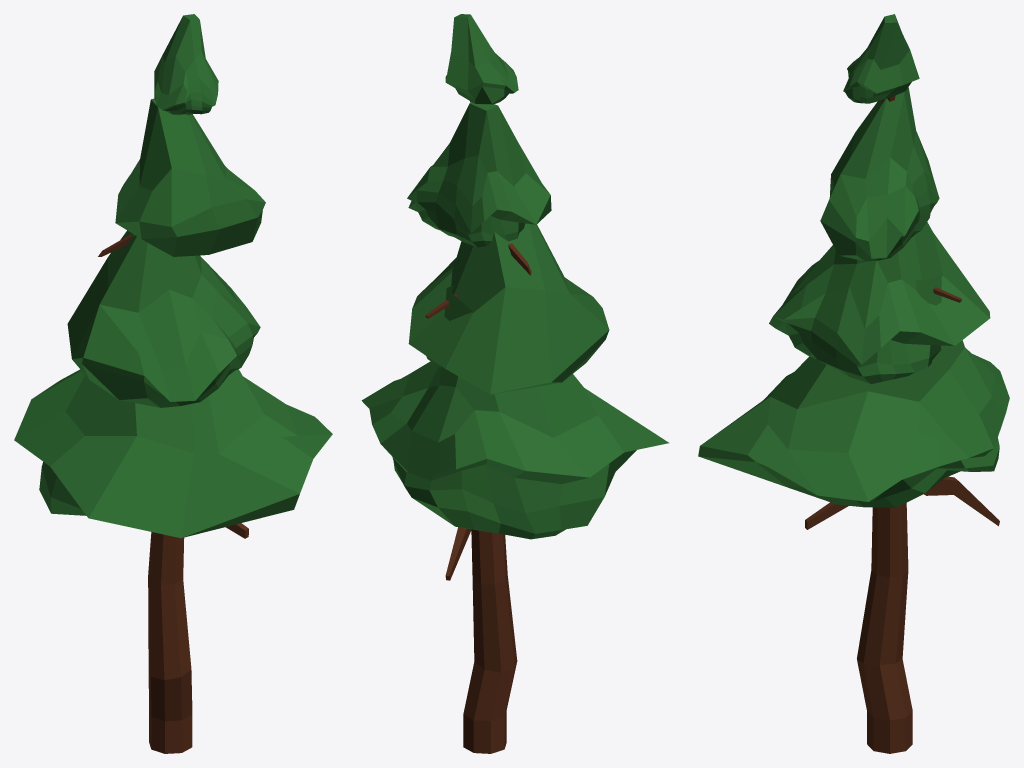
The model's file is normalTree.fbx.
3 views of the same model, side by side, from view 1: azimuth 30°, elevation 25°; view 2: azimuth 150°, elevation 25°; view 3: azimuth 270°, elevation 25° (orthographic).
Visible parts, largest first — view 1: Cube.237, Cube.236, Cube.235, Cylinder.123, Cube.234; view 2: Cube.237, Cube.236, Cube.235, Cylinder.123, Cube.234; view 3: Cube.237, Cube.236, Cube.235, Cylinder.123, Cube.234.
Boxes of the visible parts, x1,y1,x2,y2 form: Cube.237: (14,369,332,538); Cube.236: (67,230,260,407); Cube.235: (115,98,265,256); Cylinder.123: (98,234,248,753); Cube.234: (154,14,218,115); Cube.237: (361,285,668,539); Cube.236: (408,223,609,394); Cube.235: (407,102,551,247); Cylinder.123: (425,101,531,753); Cube.234: (445,14,518,104); Cube.237: (698,275,1009,507); Cube.236: (769,222,990,383); Cube.235: (820,87,939,261); Cylinder.123: (805,95,999,753); Cube.234: (843,14,919,103).
Bounding box in the file's own units: 1372 × 3554 × 1361.
